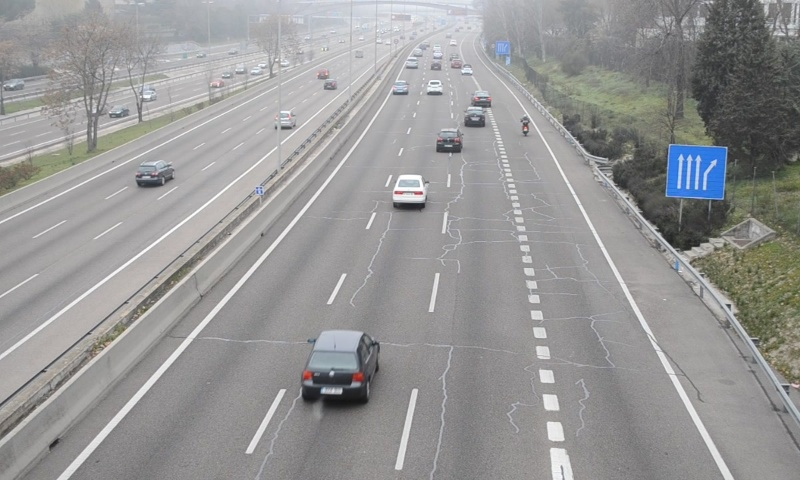car: (302, 330, 380, 395), (393, 174, 428, 205), (436, 128, 463, 153), (464, 106, 486, 128), (472, 90, 493, 106), (426, 78, 444, 94), (392, 80, 408, 94)
motorcycle: (520, 114, 532, 136)
